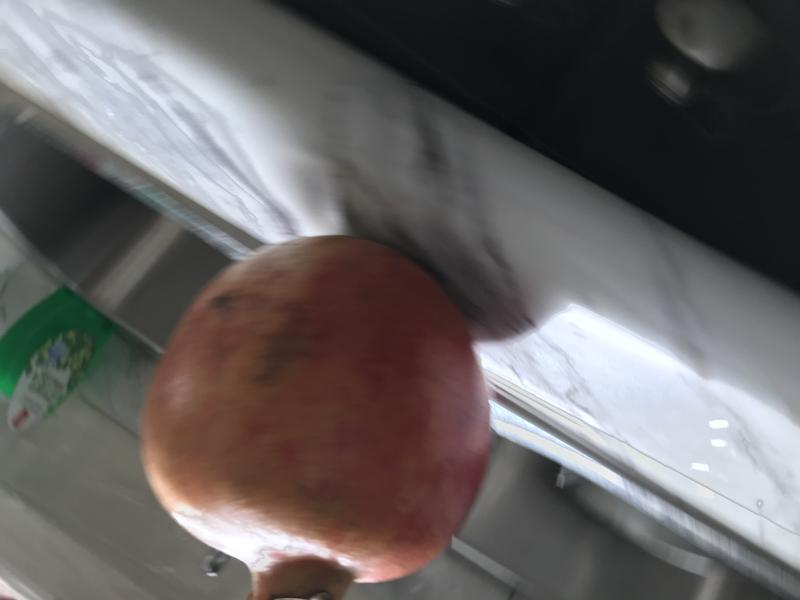pomegranate: (125, 219, 508, 600)
